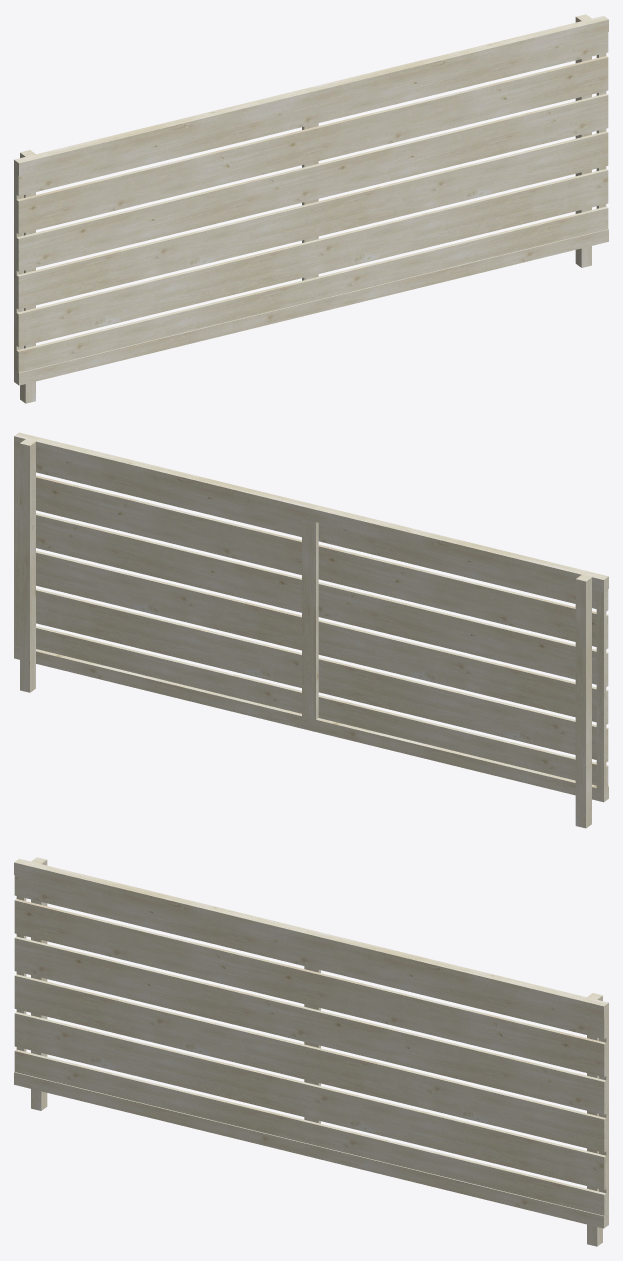
File: everartfencekabenashi_720-1998_whitepine.fbx
The picture shows the model from 3 angles, top to bottom: view 1: azimuth 30°, elevation 25°; view 2: azimuth 150°, elevation 25°; view 3: azimuth 330°, elevation 25°; orthographic projection.
Parts seen in each view (by area): view 1: everartfencekabenashi_720-1998_whitepine; view 2: everartfencekabenashi_720-1998_whitepine; view 3: everartfencekabenashi_720-1998_whitepine.
Boxes of the visible parts, x1,y1,x2,y2 form: everartfencekabenashi_720-1998_whitepine: (14,14,608,403); everartfencekabenashi_720-1998_whitepine: (14,432,608,828); everartfencekabenashi_720-1998_whitepine: (14,857,608,1246).
Bounding box in the file's own units: 200 × 80 × 6.5.
1 material, 1 textured.
